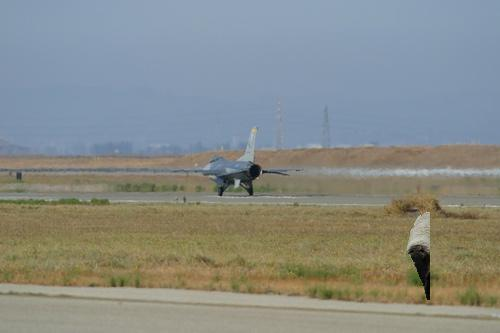tampered: (407, 213, 430, 300)
